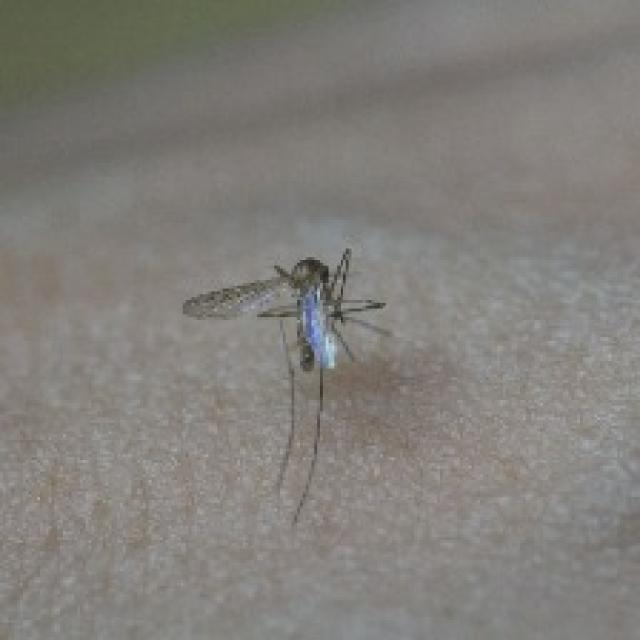culex: (180, 243, 391, 526)
